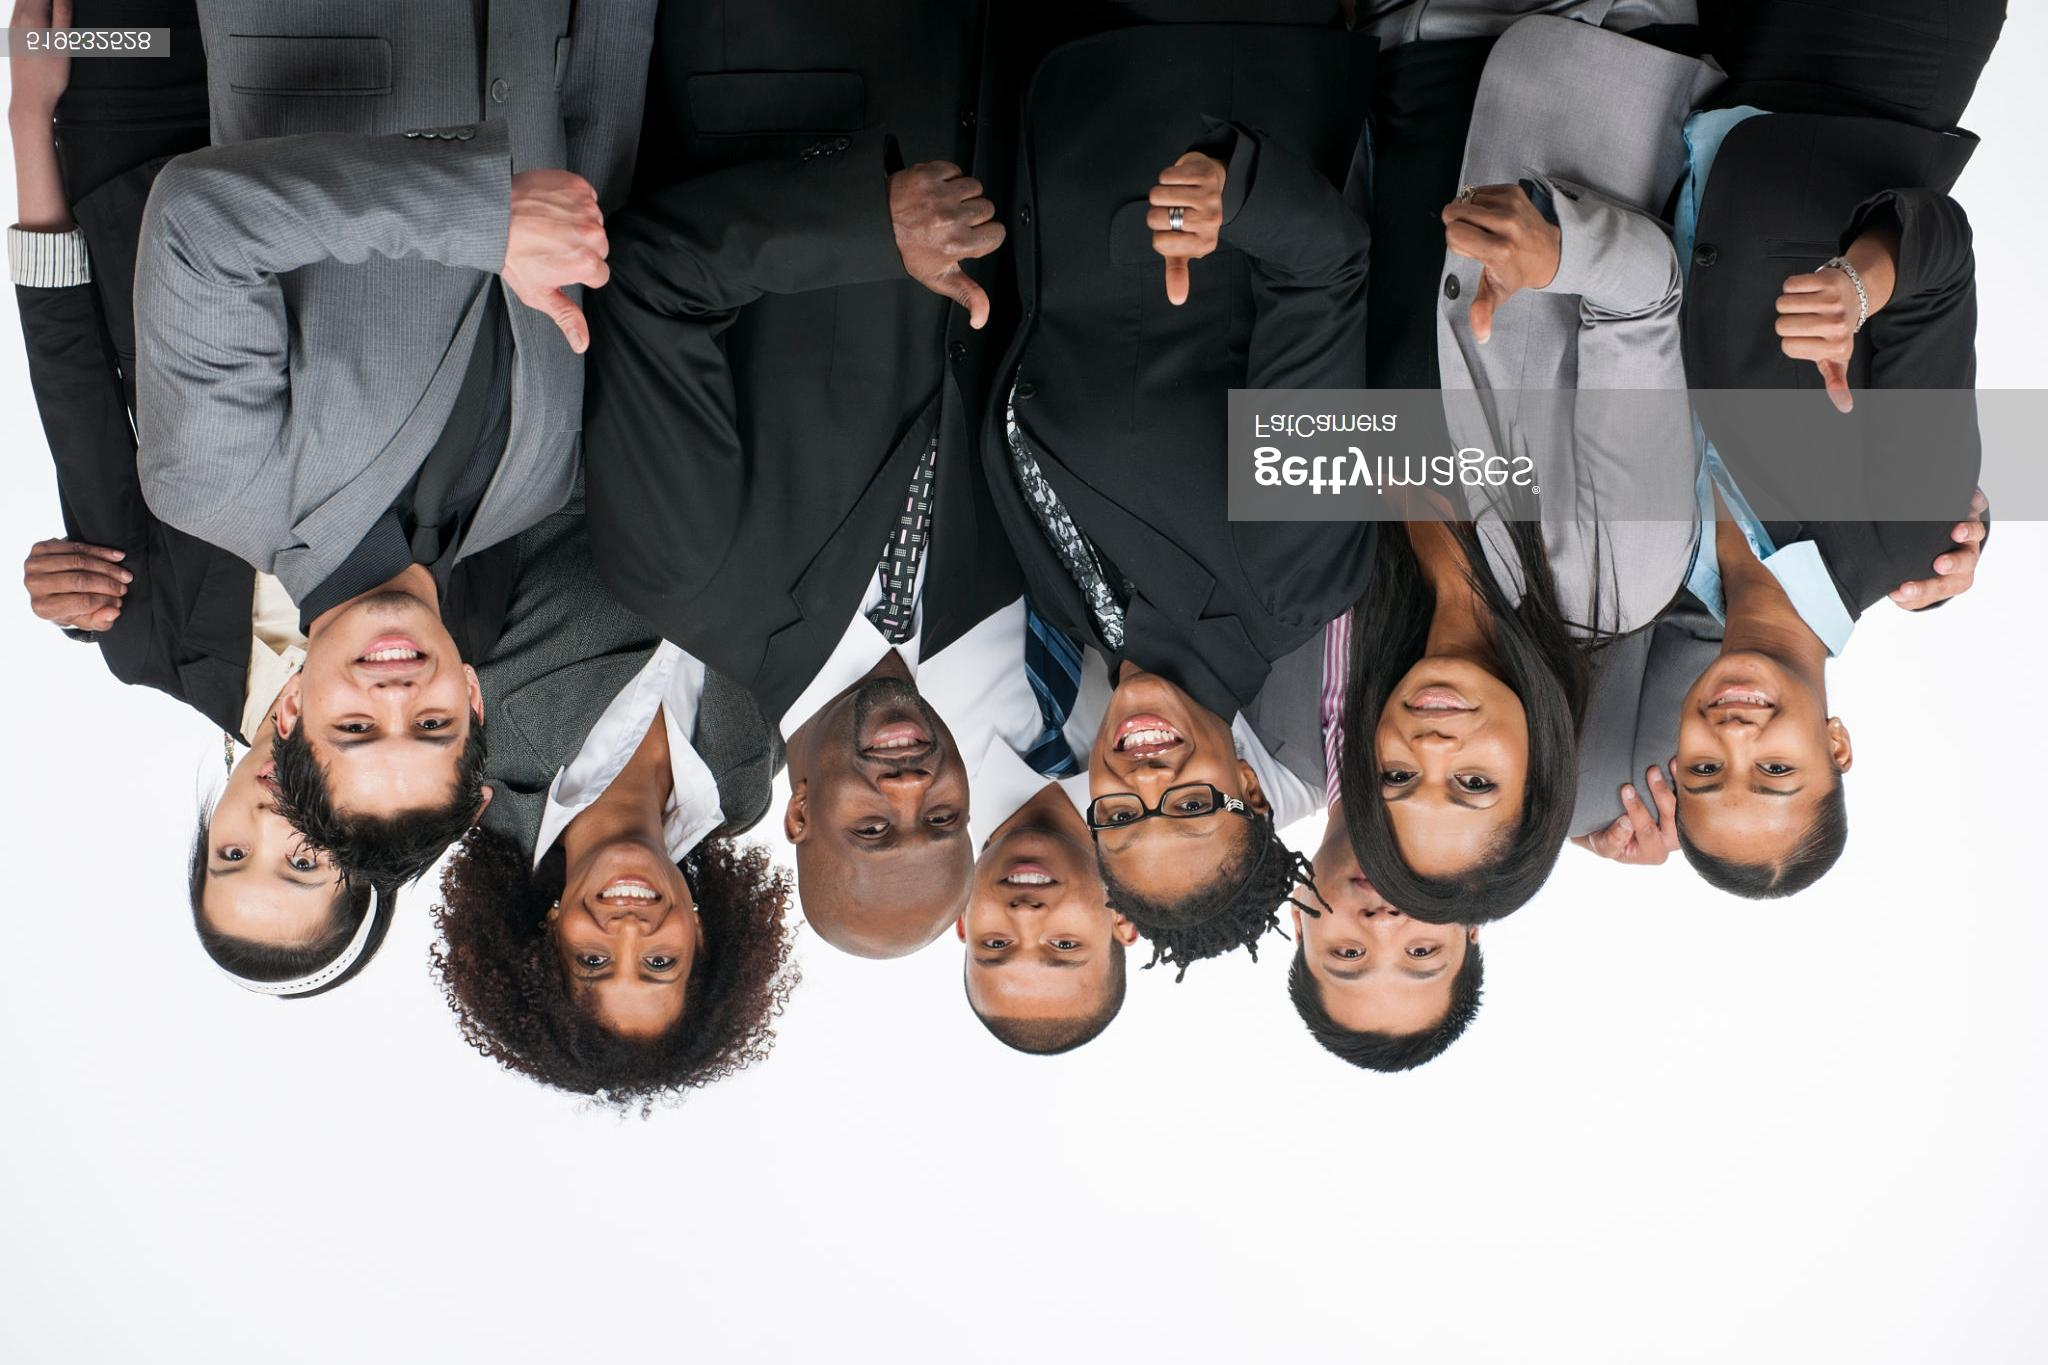thumbsdown: (528, 168, 612, 355), (918, 158, 1006, 332), (1440, 183, 1524, 344), (1145, 161, 1223, 308), (1774, 273, 1855, 413)
